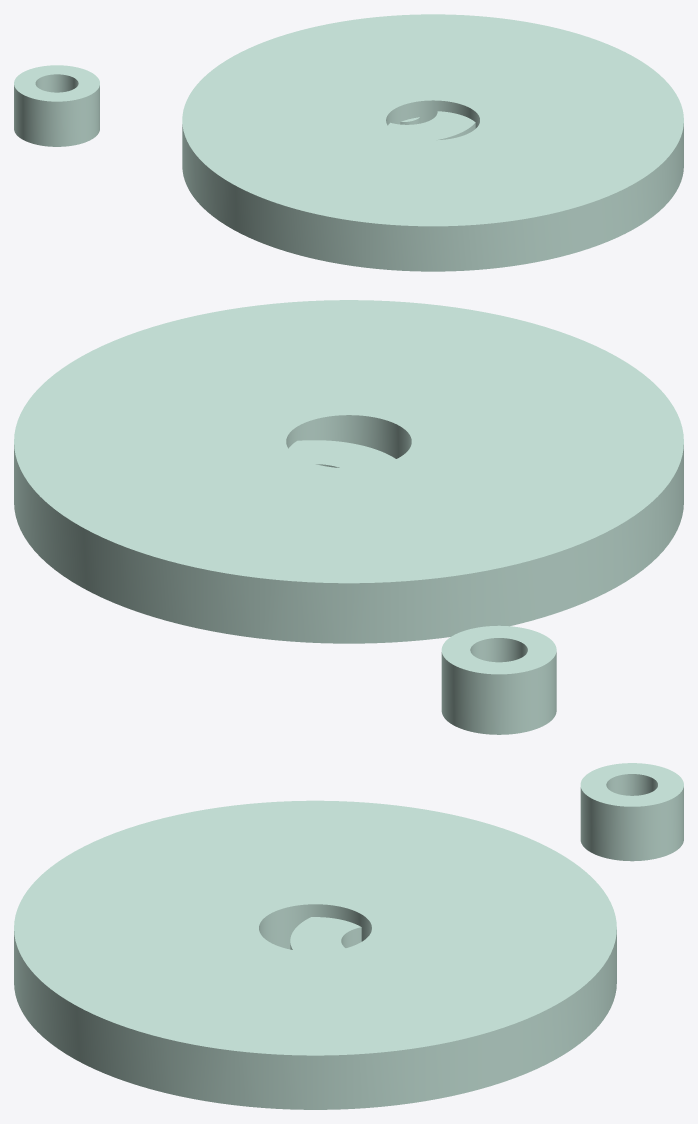
3 renders of one model, top to bottom at view 1: azimuth 30°, elevation 25°; view 2: azimuth 150°, elevation 25°; view 3: azimuth 270°, elevation 25°, orthographic. The views are drawn at different scales.
Parts seen in each view (by area): view 1: Renderer Node; view 2: Renderer Node; view 3: Renderer Node.
Part boxes in pixels (<box>): Renderer Node: <box>14,14,683,271</box>; Renderer Node: <box>14,300,683,734</box>; Renderer Node: <box>14,763,683,1109</box>.
Bounding box in the file's own units: 1.53 × 0.1328 × 1.48.
